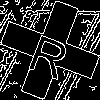R: (25, 25, 75, 80)
